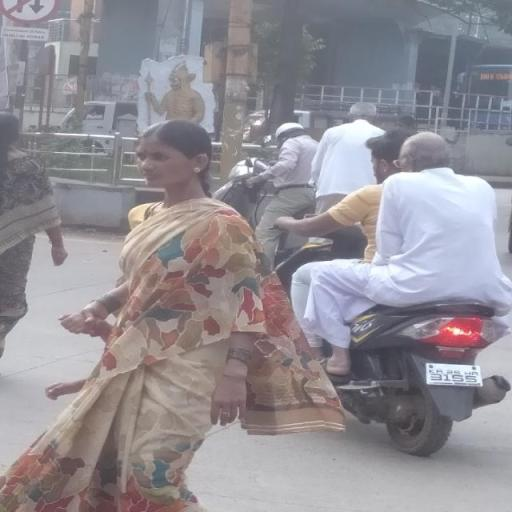bike: (268, 128, 509, 454)
numberplate: (424, 362, 486, 387)
withouthelmet: (404, 132, 446, 168), (367, 135, 402, 174)
